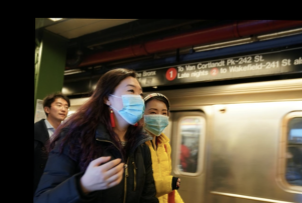with_mask: (112, 82, 146, 125), (143, 106, 171, 138)
without_mask: (50, 99, 70, 119)
